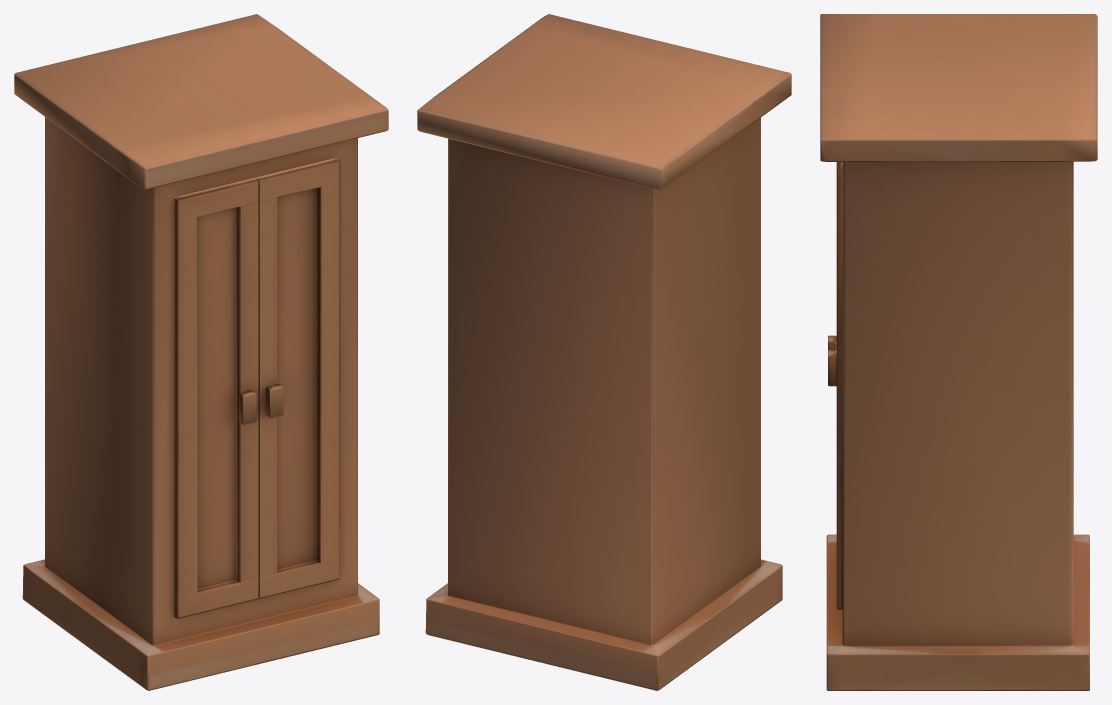
The model's file is cabinet.fbx.
3 views of the same model, side by side, from view 1: azimuth 30°, elevation 25°; view 2: azimuth 150°, elevation 25°; view 3: azimuth 270°, elevation 25° (orthographic). The views are drawn at different scales.
Parts seen in each view (by area): view 1: Mesh_0; view 2: Mesh_0; view 3: Mesh_0.
Boxes of the visible parts, x1=… form: Mesh_0: x1=14, y1=14, x2=388, y2=690; Mesh_0: x1=417, y1=14, x2=791, y2=690; Mesh_0: x1=820, y1=14, x2=1097, y2=690.
Size of the model in its own units: 243 by 500 by 226.
Materials: 1 (1 with a texture image).
